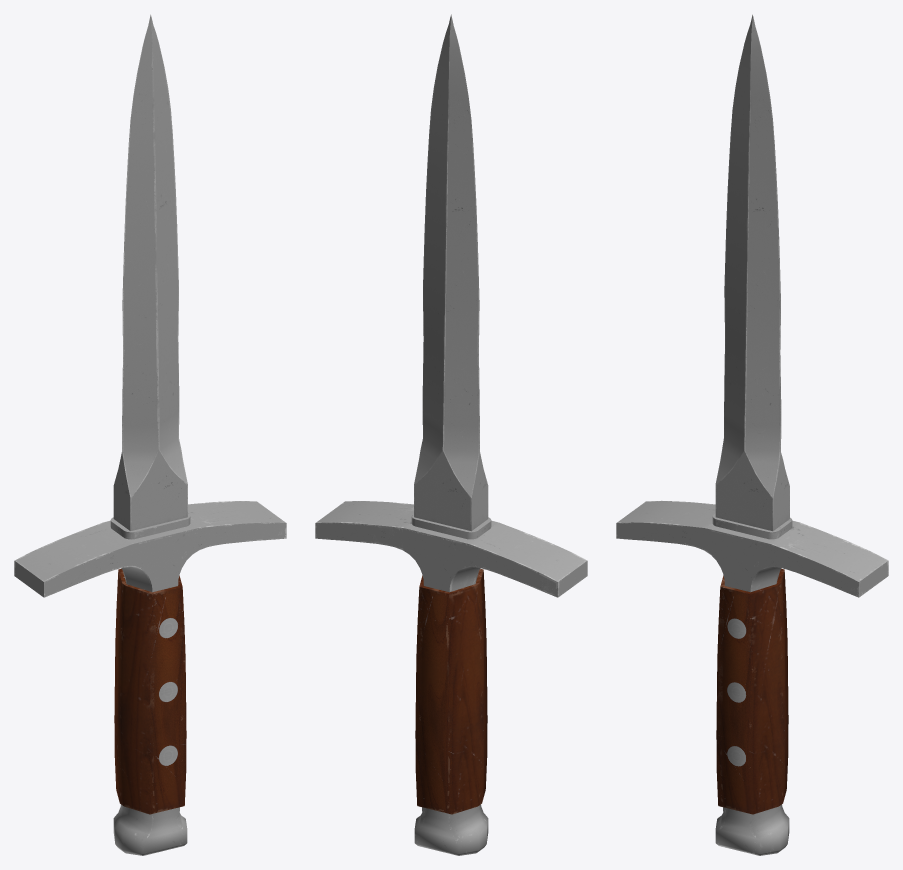
The model's file is dagger.obj.
3 views of the same model, side by side, from view 1: azimuth 30°, elevation 25°; view 2: azimuth 150°, elevation 25°; view 3: azimuth 330°, elevation 25° (orthographic).
Visible parts, largest first — view 1: Dagger2_low; view 2: Dagger2_low; view 3: Dagger2_low.
Part boxes in pixels (left/top/right/bottom): Dagger2_low: left=14, top=14, right=286, bottom=855; Dagger2_low: left=315, top=14, right=587, bottom=855; Dagger2_low: left=616, top=14, right=888, bottom=855.
Size of the model in its own units: 49.72 by 162 by 12.04.
